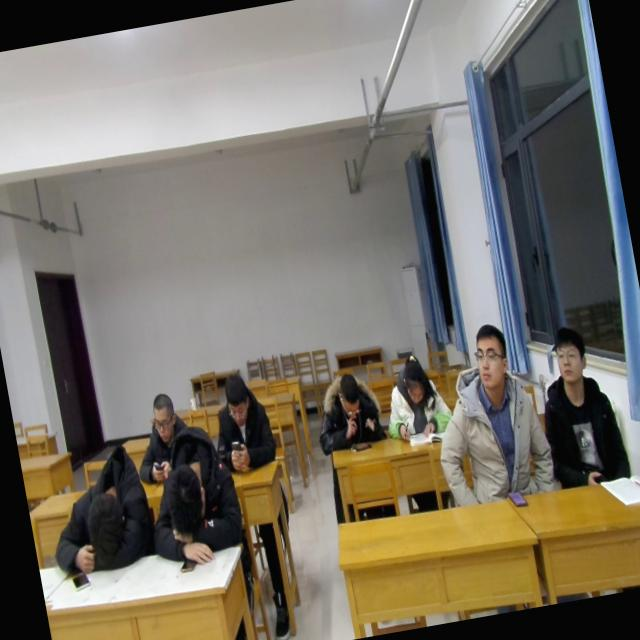bow: (136, 432, 254, 574), (38, 445, 160, 577)
down: (218, 367, 256, 430), (328, 364, 366, 420), (144, 387, 178, 446), (396, 354, 429, 408)
lookup: (465, 314, 513, 388), (546, 319, 591, 392)
sit: (422, 316, 560, 512), (526, 316, 634, 490), (204, 362, 282, 476), (306, 360, 387, 456), (374, 350, 458, 442), (127, 382, 205, 472)
